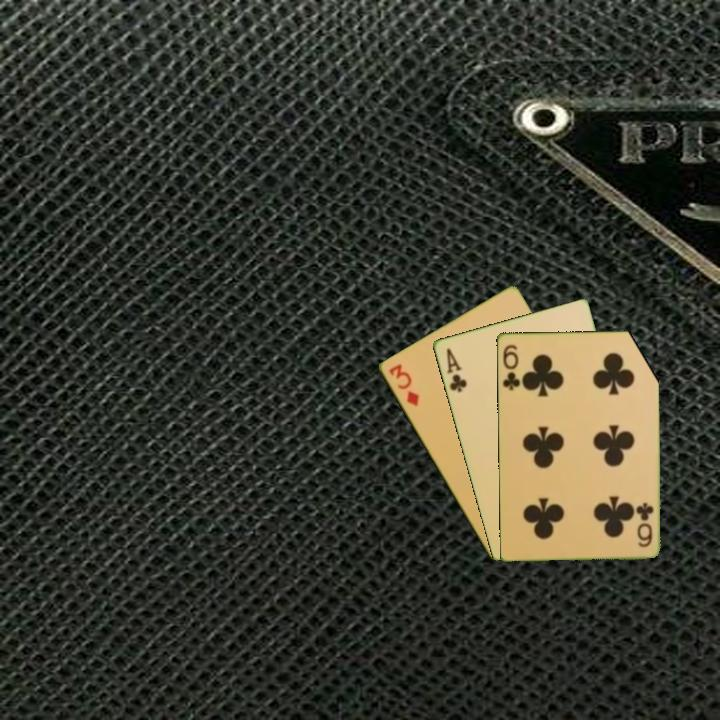3d: (385, 360, 422, 409)
6c: (499, 341, 522, 393), (634, 499, 656, 549)
Ac: (442, 344, 470, 395)
